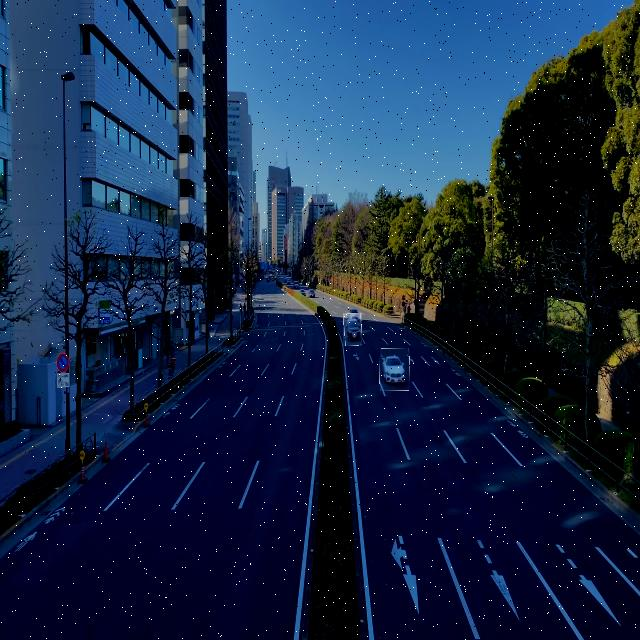Car: (380, 349, 410, 391), (343, 313, 362, 346)
